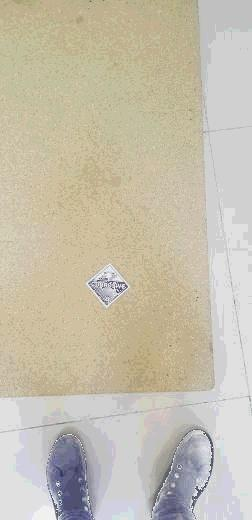corrosive: (85, 261, 131, 308)
